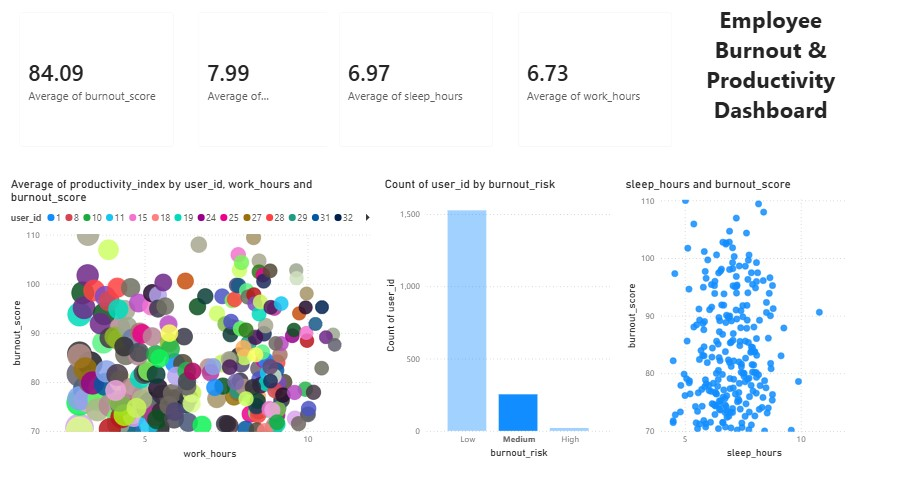

The dashboard page shown, as its layout file describes it:
{"tool":"powerbi","page":{"name":"Page 1","canvas":[1280,720],"ordinal":0},"visuals":[{"type":"cardVisual","fields":{"Data":["Avg(burnout_dashboard_data.burnout_score)"]},"box":[10.9,0,254.5,226.2],"z":0},{"type":"cardVisual","fields":{"Data":["Avg(burnout_dashboard_data.productivity_index)"]},"box":[265.4,0,254.5,226.2],"z":1},{"type":"cardVisual","fields":{"Data":["Avg(burnout_dashboard_data.sleep_hours)"]},"box":[465.5,0,254.5,226.2],"z":2},{"type":"cardVisual","fields":{"Data":["Avg(burnout_dashboard_data.work_hours)"]},"box":[720,0,254.5,226.2],"z":3},{"type":"scatterChart","fields":{"X":["burnout_dashboard_data.work_hours"],"Y":["burnout_dashboard_data.burnout_score"],"Size":["Avg(burnout_dashboard_data.productivity_index)"],"Series":["burnout_dashboard_data.user_id"]},"box":[10.9,252.3,532.9,406.8],"z":4},{"type":"clusteredColumnChart","fields":{"Category":["burnout_dashboard_data.burnout_risk"],"Y":["CountNonNull(burnout_dashboard_data.user_id)"]},"box":[543.8,252.3,332.8,406.8],"z":5},{"type":"scatterChart","fields":{"X":["burnout_dashboard_data.sleep_hours"],"Y":["burnout_dashboard_data.burnout_score"]},"box":[887,252,333,407],"z":6},{"type":"textbox","box":[975,0,245,226],"z":7}]}

Visuals, with their boxes in screenshot pixels (x1, y1, x2, y2), scaled from the page's 1280x720 canvas onto the 897x504 screenshot:
cardVisual - Avg(burnout_dashboard_data.burnout_score): 8,0,186,158
cardVisual - Avg(burnout_dashboard_data.productivity_index): 186,0,364,158
cardVisual - Avg(burnout_dashboard_data.sleep_hours): 326,0,505,158
cardVisual - Avg(burnout_dashboard_data.work_hours): 505,0,683,158
scatterChart - burnout_dashboard_data.work_hours x burnout_dashboard_data.burnout_score: 8,177,381,461
clusteredColumnChart - burnout_dashboard_data.burnout_risk x CountNonNull(burnout_dashboard_data.user_id): 381,177,614,461
scatterChart - burnout_dashboard_data.sleep_hours x burnout_dashboard_data.burnout_score: 622,176,855,461
textbox: 683,0,855,158
